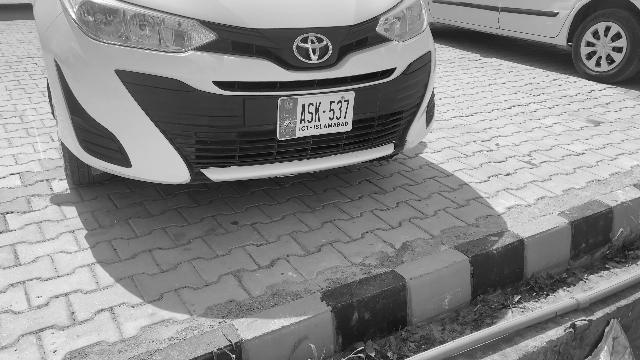Number: (296, 97, 350, 126)
